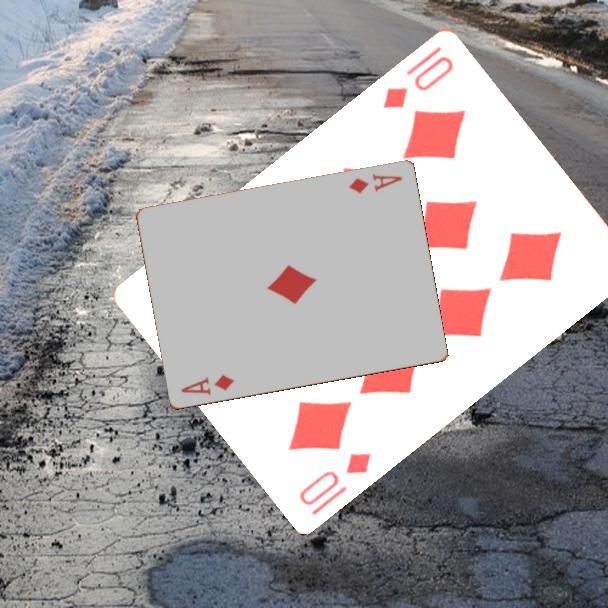d01: (177, 371, 237, 398), (345, 171, 405, 197)
d10: (295, 448, 375, 518), (379, 51, 457, 111)
